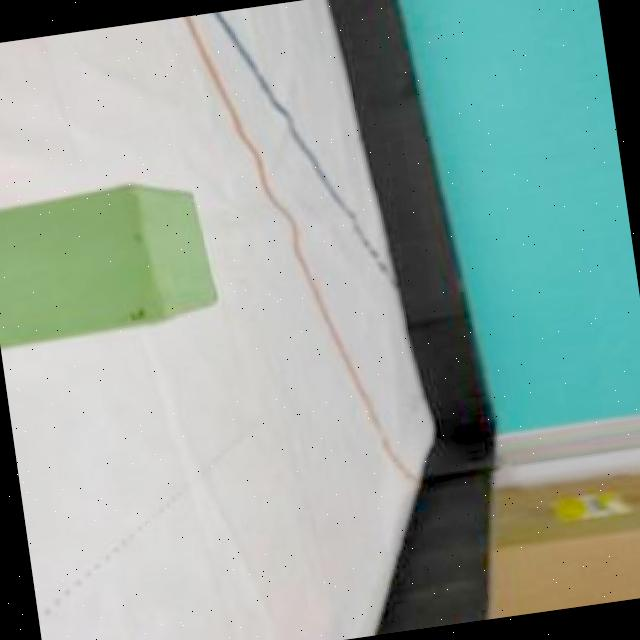greenbox: (0, 169, 227, 353)
